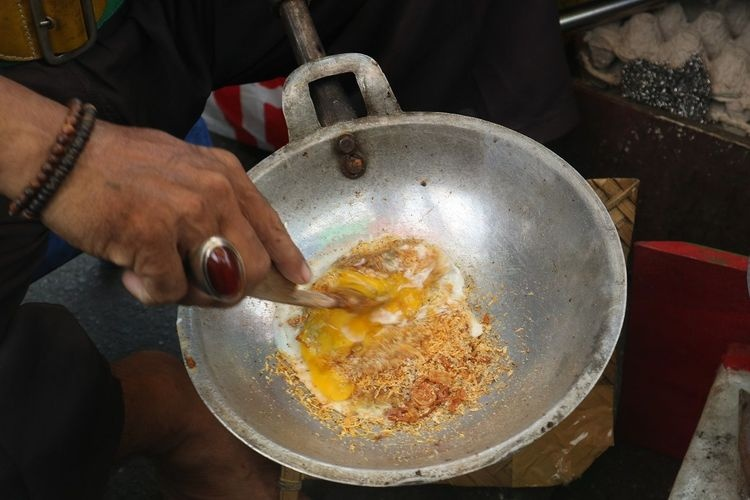kerak_telor: (302, 241, 507, 429)
